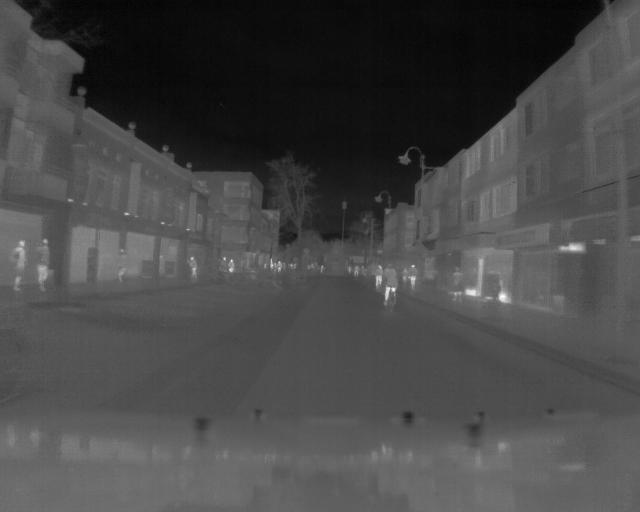person: (37, 235, 52, 295), (12, 235, 27, 291), (382, 263, 398, 310), (450, 262, 465, 301), (116, 241, 128, 283), (188, 251, 200, 285), (408, 260, 418, 290), (217, 251, 228, 273), (229, 251, 237, 278), (375, 261, 383, 288)
